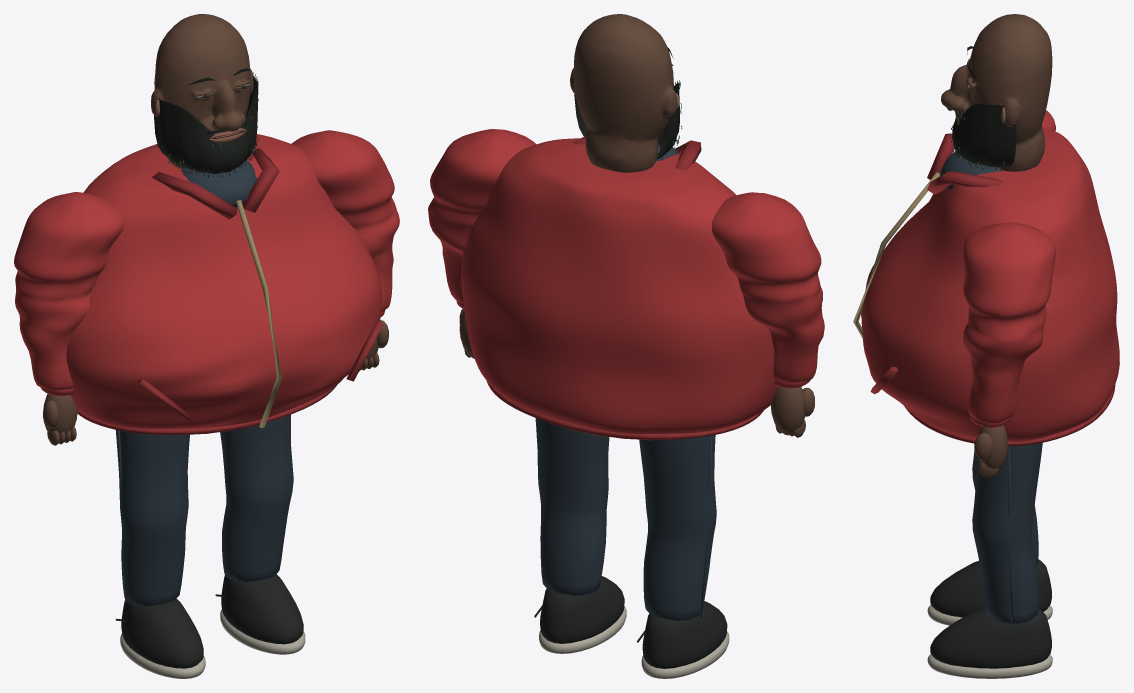
File: npc-cloth.glb
3 views of the same model, side by side, from view 1: azimuth 30°, elevation 25°; view 2: azimuth 150°, elevation 25°; view 3: azimuth 270°, elevation 25° (orthographic). The views are drawn at different scales.
Parts seen in each view (by area): view 1: NPC_Mesh, LeftArm.001, Head.001, LeftLeg.001, RightLeg.001, RightArm.001, Shoe.003, Shoe.001; view 2: NPC_Mesh, LeftArm.001, Head.001, LeftLeg.001, RightLeg.001, RightArm.001, Shoe.003, Shoe.001; view 3: NPC_Mesh, RightArm.001, Head.001, RightLeg.001, Shoe.003, Shoe.001.
Part boxes in pixels (x1=…): NPC_Mesh: x1=66, y1=134, x2=383, y2=435; LeftArm.001: x1=14, y1=192, x2=123, y2=445; Head.001: x1=151, y1=14, x2=259, y2=177; LeftLeg.001: x1=115, y1=430, x2=189, y2=606; RightLeg.001: x1=220, y1=414, x2=293, y2=582; RightArm.001: x1=291, y1=130, x2=399, y2=371; Shoe.003: x1=215, y1=574, x2=305, y2=654; Shoe.001: x1=115, y1=598, x2=205, y2=678; NPC_Mesh: x1=461, y1=137, x2=778, y2=440; LeftArm.001: x1=712, y1=192, x2=824, y2=437; Head.001: x1=570, y1=14, x2=682, y2=172; LeftLeg.001: x1=639, y1=435, x2=716, y2=621; RightLeg.001: x1=535, y1=418, x2=609, y2=596; RightArm.001: x1=428, y1=129, x2=536, y2=358; Shoe.003: x1=534, y1=576, x2=626, y2=653; Shoe.001: x1=637, y1=601, x2=729, y2=678; NPC_Mesh: x1=853, y1=127, x2=1119, y2=446; RightArm.001: x1=963, y1=222, x2=1055, y2=477; Head.001: x1=941, y1=14, x2=1052, y2=171; RightLeg.001: x1=972, y1=442, x2=1042, y2=626; Shoe.003: x1=927, y1=607, x2=1052, y2=678; Shoe.001: x1=927, y1=559, x2=1052, y2=625.
Bounding box in the file's own units: 1.2 × 1.89 × 0.7334.
